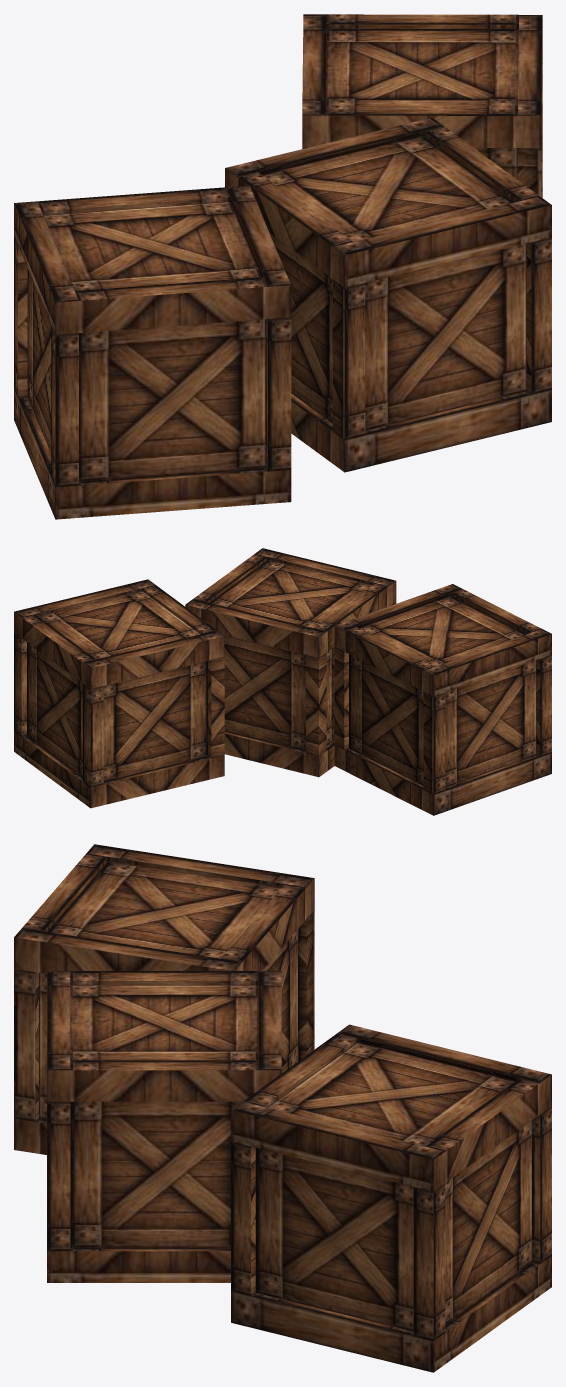
3 views of the same model, one above another, from view 1: azimuth 30°, elevation 25°; view 2: azimuth 150°, elevation 25°; view 3: azimuth 270°, elevation 25° (orthographic). The views are drawn at different scales.
Parts seen in each view (by area): view 1: pCube1, pCube2, pCube3; view 2: pCube1, pCube3, pCube2; view 3: pCube3, pCube2, pCube1.
Boxes of the visible parts, x1=… form: pCube1: x1=14, y1=185, x2=291, y2=519; pCube2: x1=225, y1=117, x2=551, y2=472; pCube3: x1=302, y1=14, x2=542, y2=197; pCube1: x1=334, y1=584, x2=551, y2=815; pCube3: x1=14, y1=579, x2=224, y2=808; pCube2: x1=185, y1=548, x2=396, y2=777; pCube3: x1=231, y1=1024, x2=551, y2=1372; pCube2: x1=47, y1=971, x2=281, y2=1282; pCube1: x1=14, y1=844, x2=314, y2=1154.
Bounding box in the file's own units: 159 × 50 × 115.
Materials: 1 (1 with a texture image).
